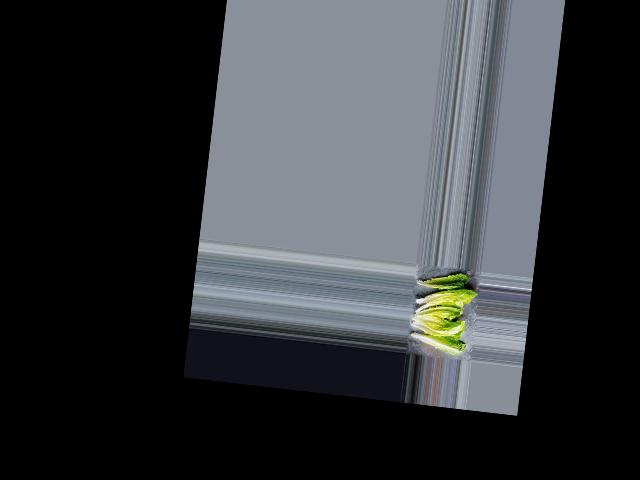lettuce: (414, 270, 469, 293)
